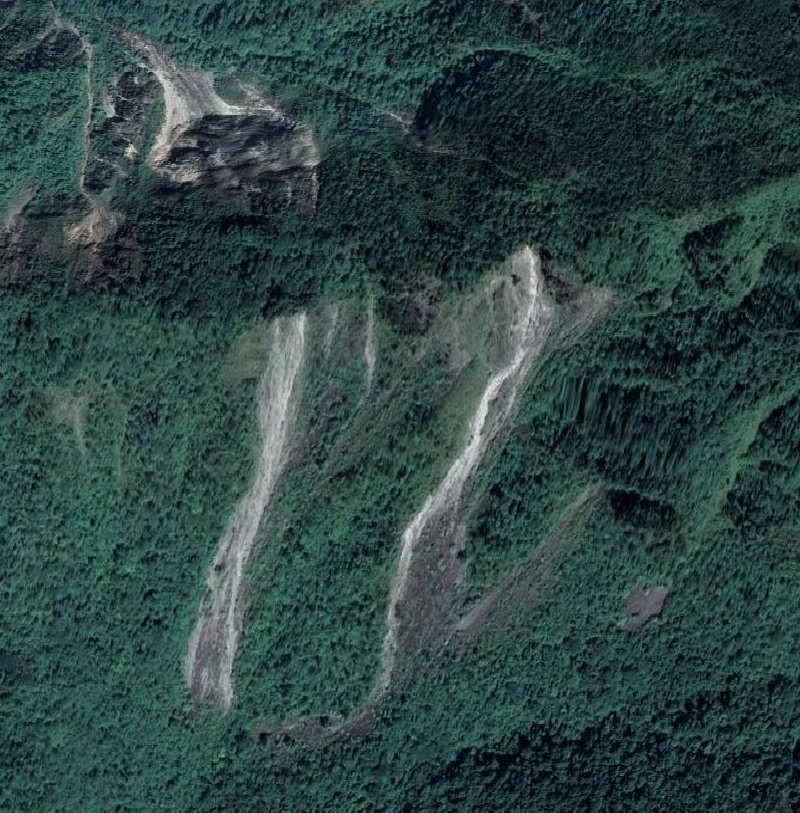slope: (394, 244, 621, 569), (175, 305, 316, 707), (119, 31, 326, 205), (64, 185, 125, 245)
